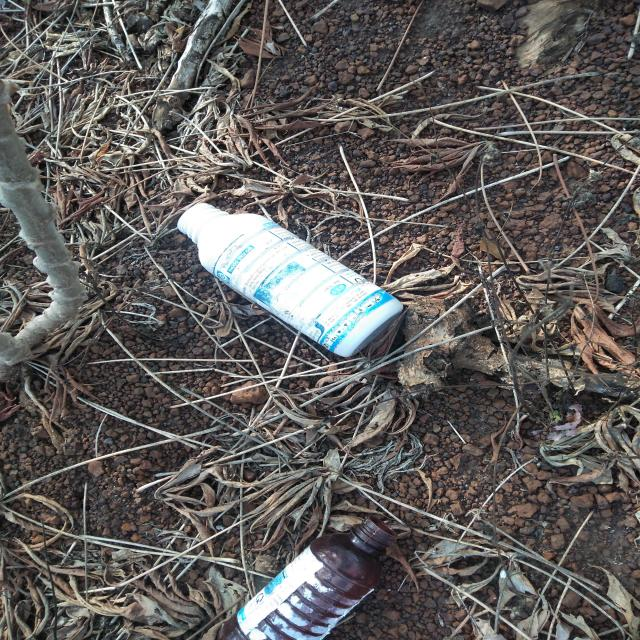Other plastic container: (177, 203, 403, 357), (222, 516, 398, 640)
